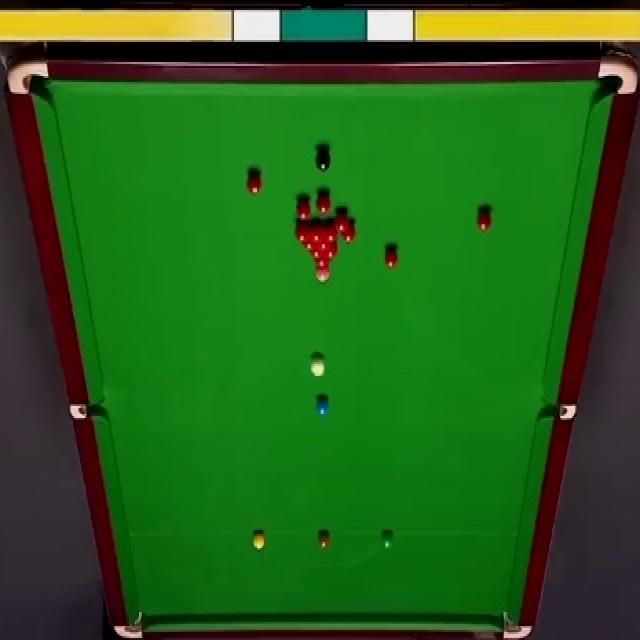black-ball: (316, 146, 332, 172)
blue-ball: (316, 397, 329, 416)
brown-ball: (317, 530, 330, 549)
green-ball: (381, 530, 394, 550)
pink-ball: (315, 272, 329, 284)
red-ball: (476, 204, 493, 232), (245, 170, 262, 196), (316, 191, 331, 215), (324, 220, 339, 243), (384, 245, 398, 269), (297, 200, 312, 222), (294, 222, 309, 244), (342, 220, 356, 243), (334, 210, 348, 232), (309, 222, 323, 244), (325, 244, 338, 260), (312, 260, 330, 270), (308, 250, 324, 260), (316, 243, 332, 251), (302, 242, 316, 251)
white-ball: (309, 352, 326, 378)
yellow-ball: (252, 531, 264, 549)
